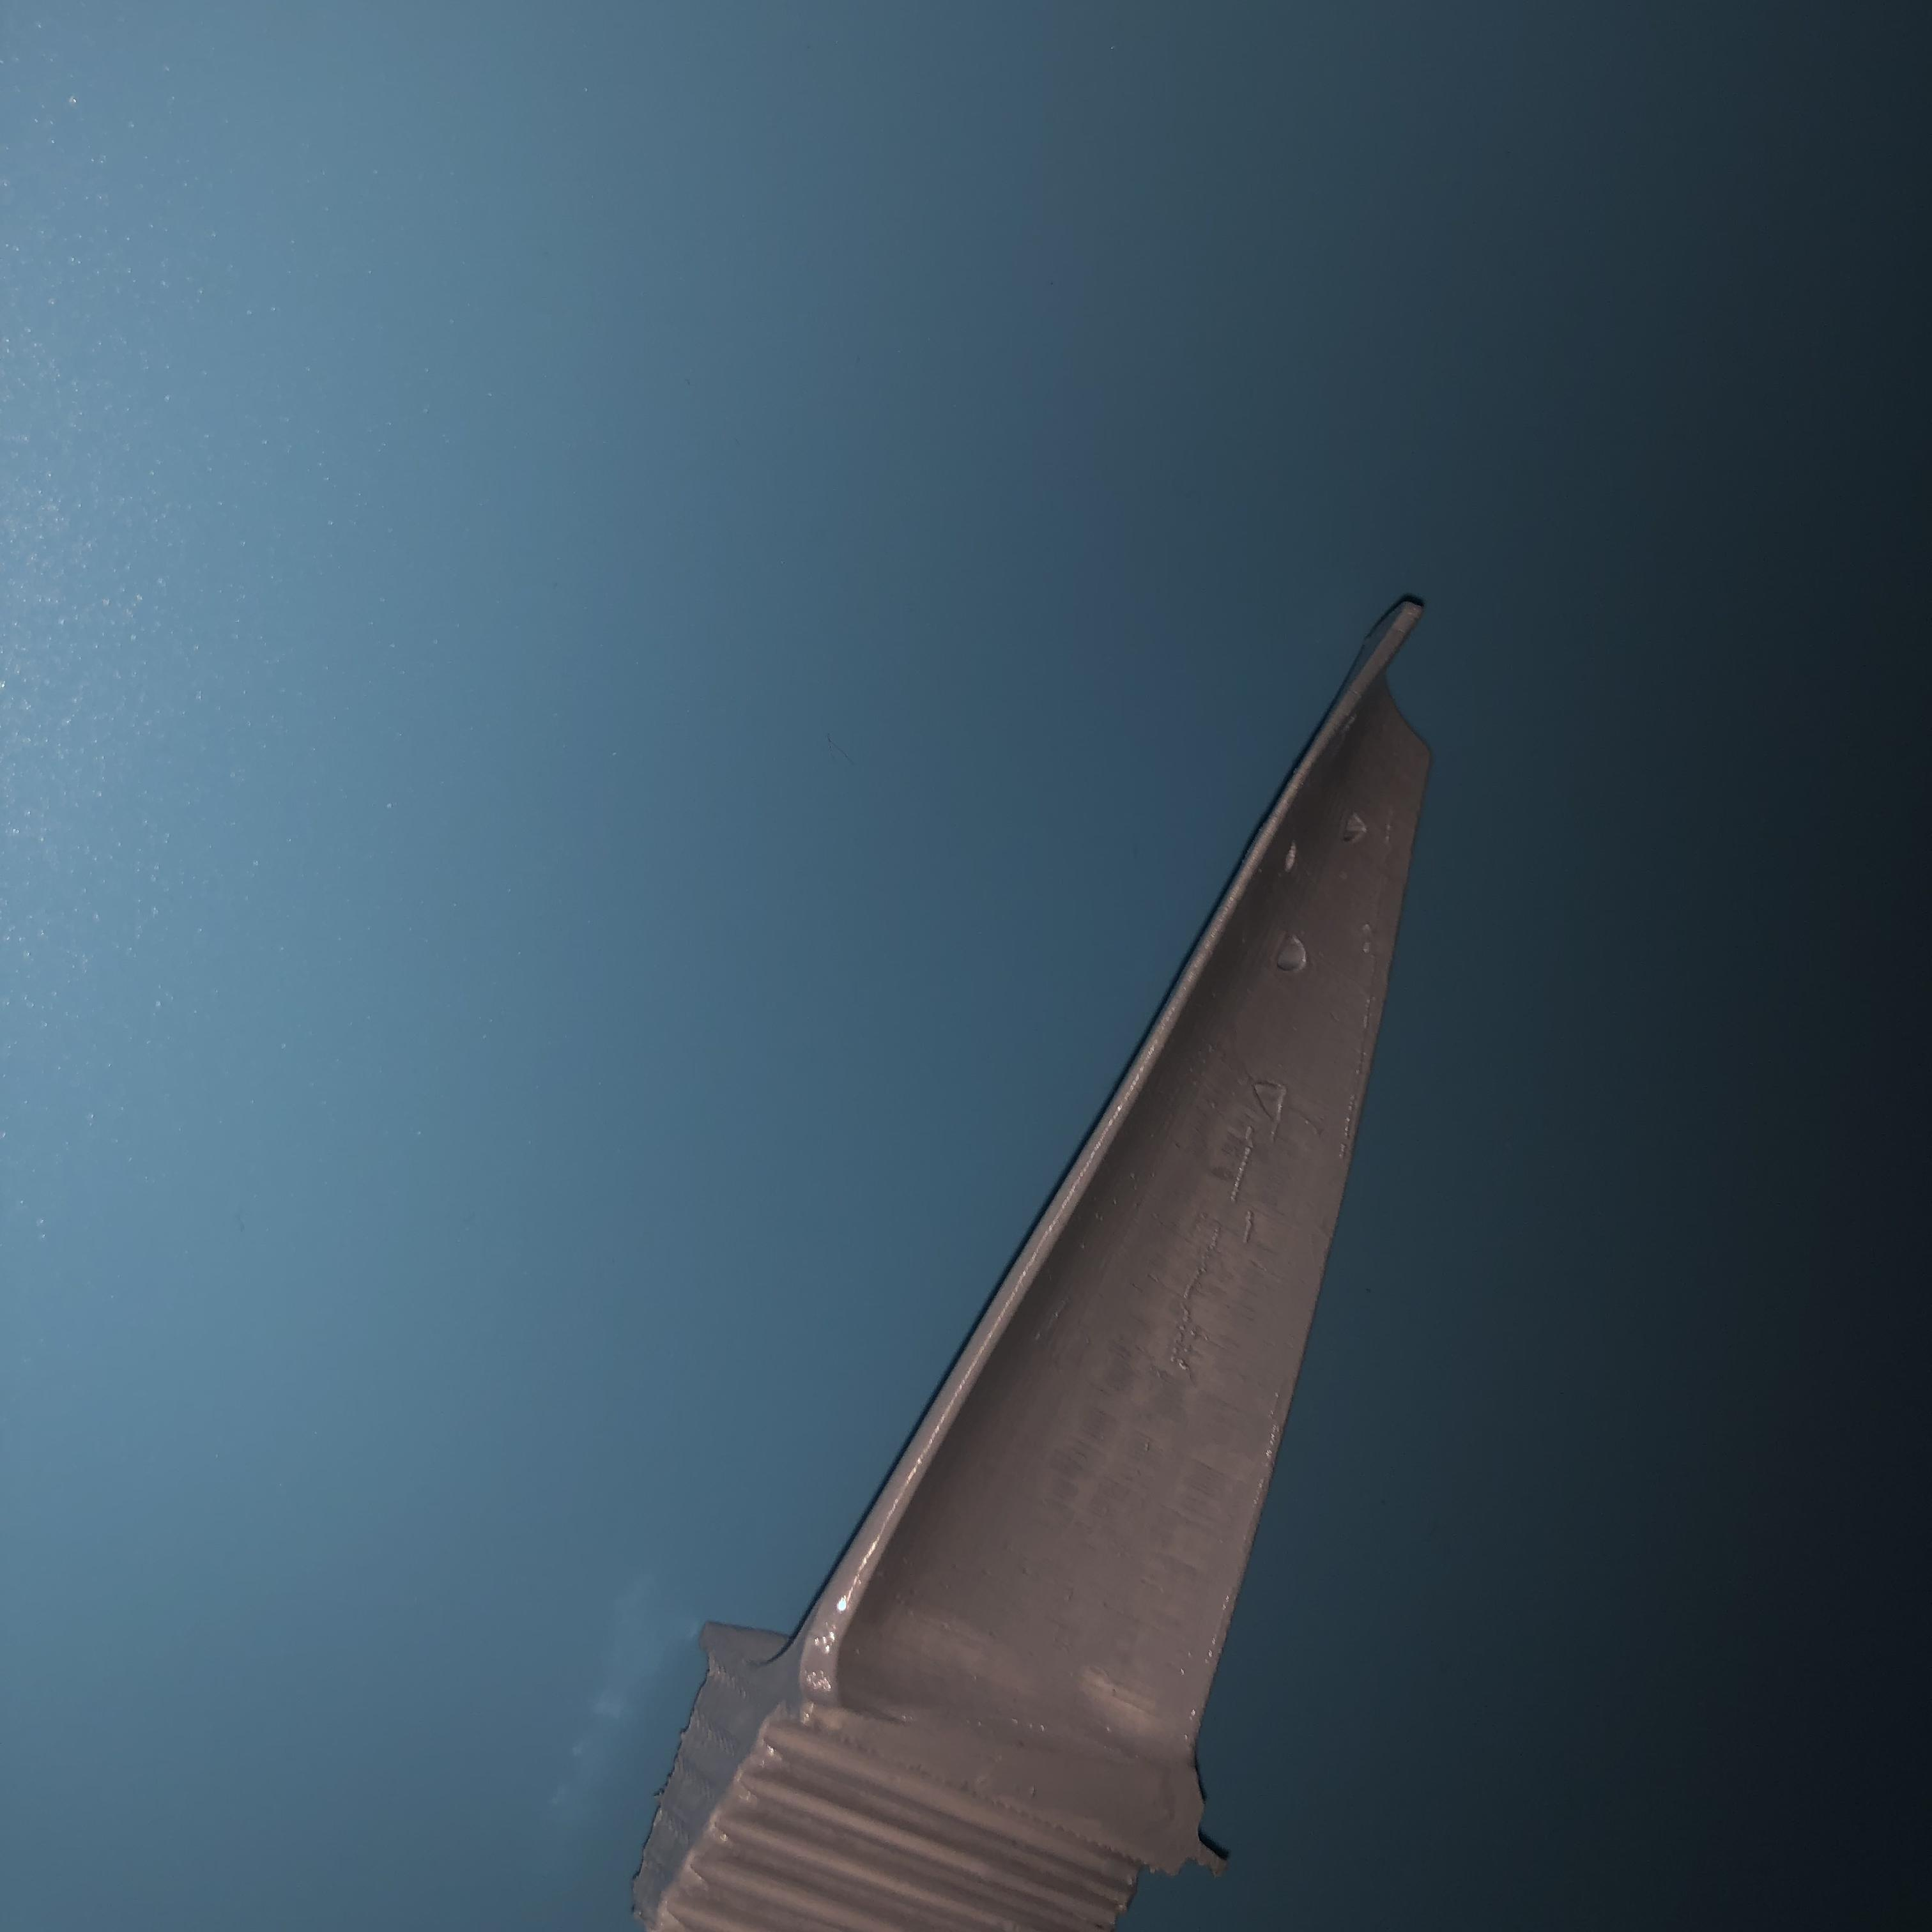breakdown: (1274, 817, 1384, 876), (1272, 939, 1325, 984)
